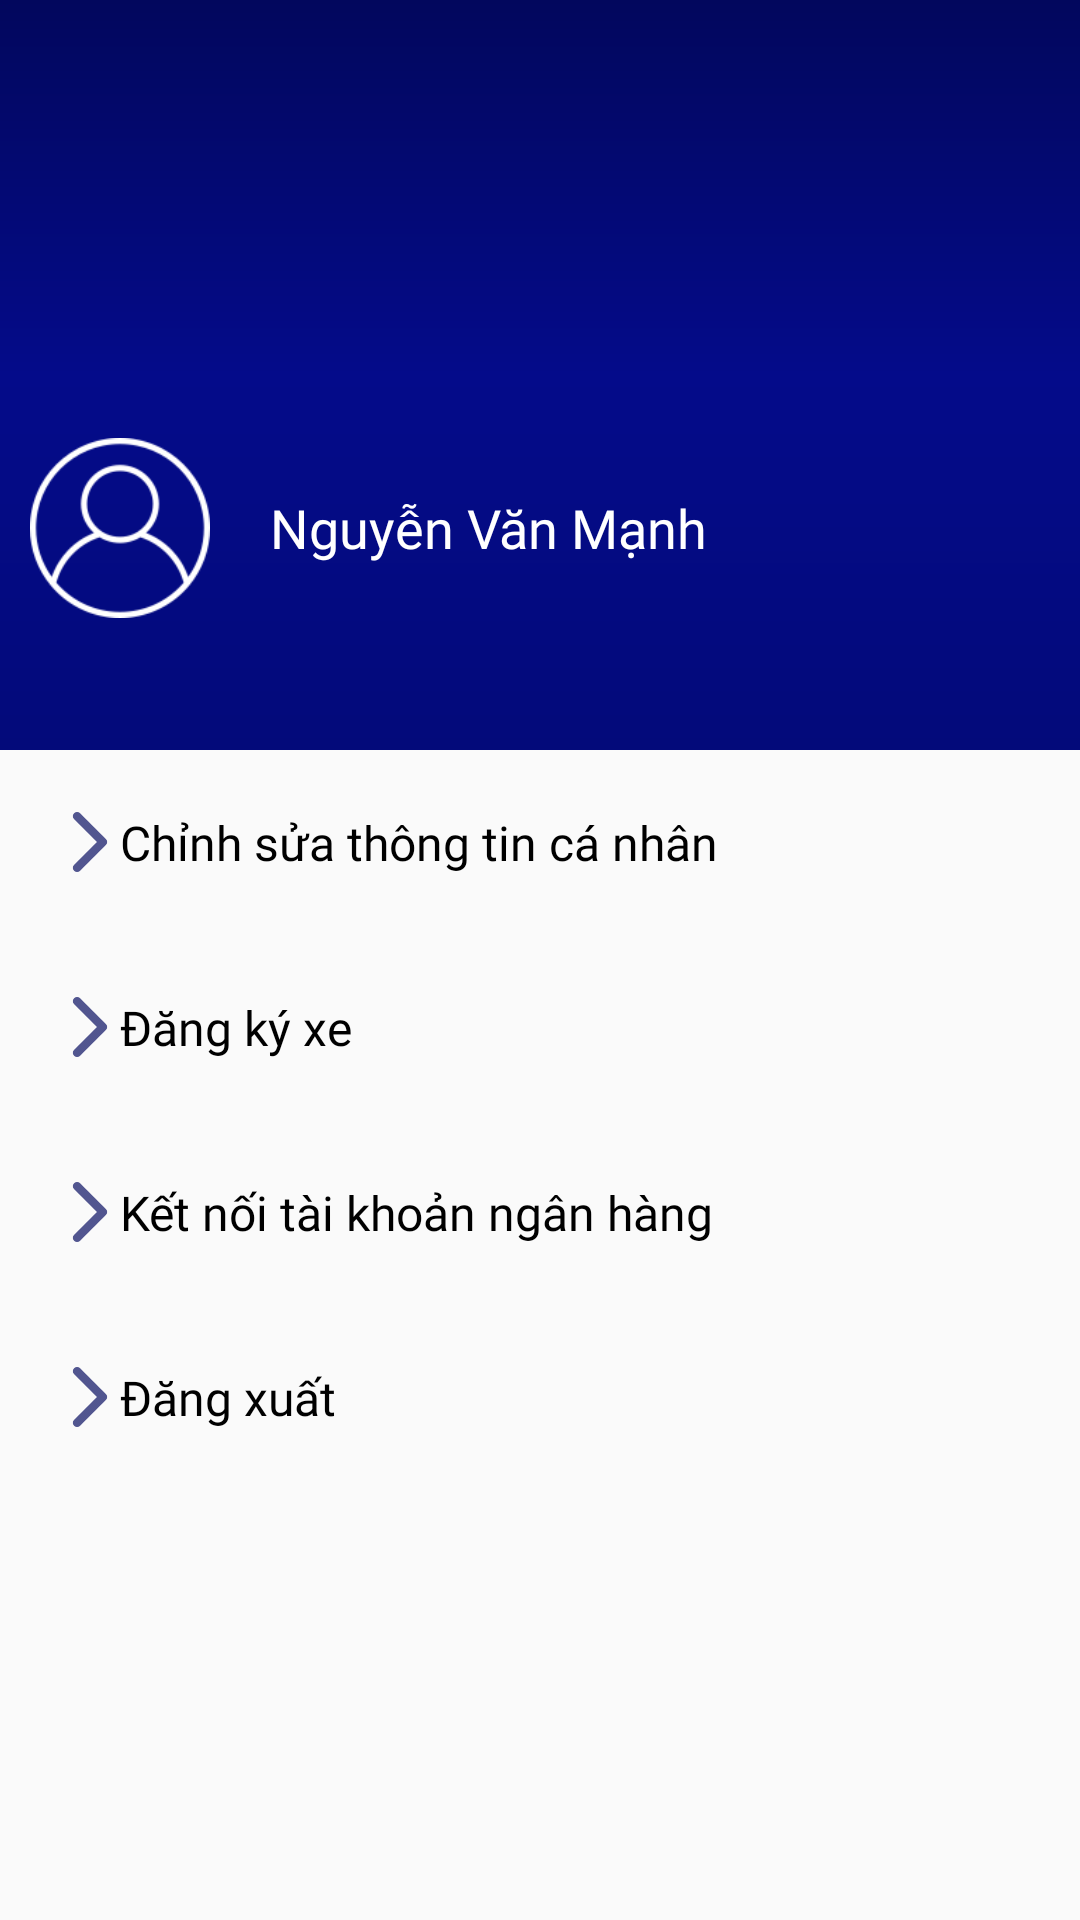

Icons on this 1080px×1920px Android screen, each with its box as (x1, y1, x2, y2):
arrow point to right: (73, 812, 107, 872), (73, 997, 107, 1057), (73, 1182, 107, 1242), (73, 1367, 107, 1427)
user: (30, 438, 210, 618)
